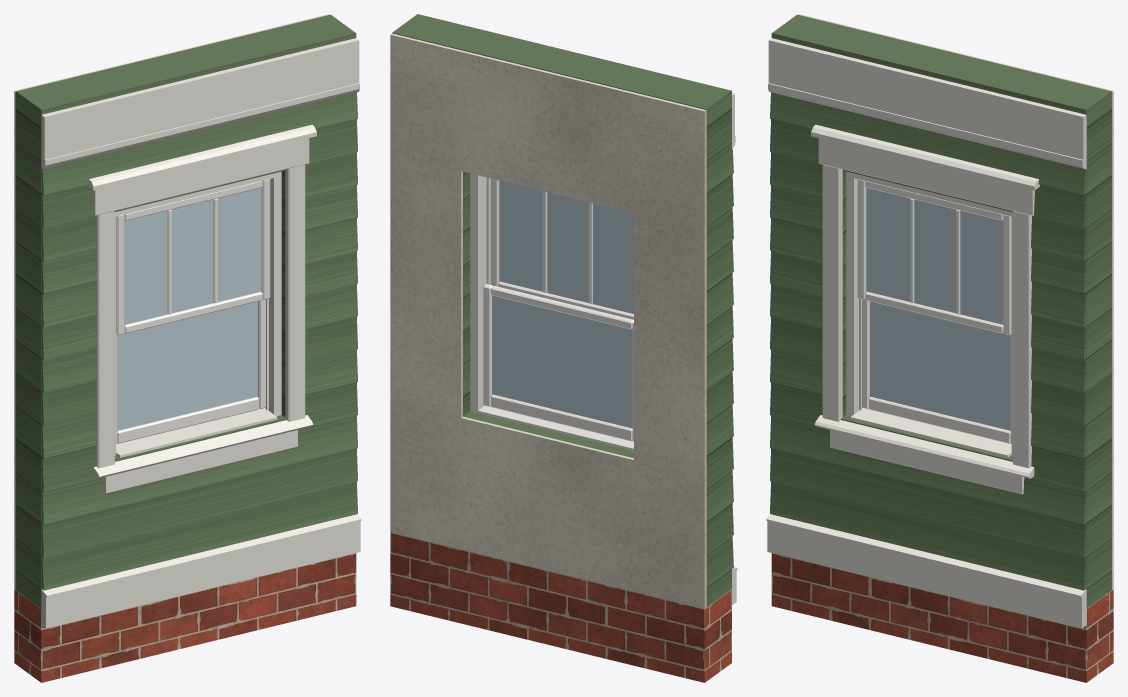
The model's file is wall_siding_window.glb.
3 views of the same model, side by side, from view 1: azimuth 30°, elevation 25°; view 2: azimuth 150°, elevation 25°; view 3: azimuth 330°, elevation 25° (orthographic).
Parts seen in each view (by area): view 1: wall_siding_window_siding, wall_siding_window_trim, wall_siding_window_glass, wall_siding_window_brick, wall_siding_window_sash, wall_siding_window_frame, wall_siding_window_plaster; view 2: wall_siding_window_plaster, wall_siding_window_glass, wall_siding_window_brick, wall_siding_window_siding, wall_siding_window_sash, wall_siding_window_frame, wall_siding_window_trim; view 3: wall_siding_window_siding, wall_siding_window_trim, wall_siding_window_glass, wall_siding_window_brick, wall_siding_window_sash, wall_siding_window_frame, wall_siding_window_plaster.
Boxes of the visible parts, bbox=[...] form: wall_siding_window_siding: bbox=[16, 14, 357, 608]; wall_siding_window_trim: bbox=[41, 38, 361, 628]; wall_siding_window_glass: bbox=[117, 188, 261, 430]; wall_siding_window_brick: bbox=[14, 553, 356, 682]; wall_siding_window_sash: bbox=[116, 179, 270, 443]; wall_siding_window_frame: bbox=[115, 171, 281, 455]; wall_siding_window_plaster: bbox=[14, 14, 329, 589]; wall_siding_window_plaster: bbox=[390, 33, 706, 608]; wall_siding_window_glass: bbox=[492, 180, 633, 428]; wall_siding_window_brick: bbox=[390, 532, 731, 682]; wall_siding_window_siding: bbox=[392, 14, 733, 606]; wall_siding_window_sash: bbox=[483, 178, 633, 441]; wall_siding_window_frame: bbox=[470, 173, 490, 412]; wall_siding_window_trim: bbox=[478, 92, 737, 604]; wall_siding_window_siding: bbox=[770, 14, 1111, 608]; wall_siding_window_trim: bbox=[766, 38, 1086, 628]; wall_siding_window_glass: bbox=[866, 188, 1010, 430]; wall_siding_window_brick: bbox=[771, 553, 1113, 682]; wall_siding_window_sash: bbox=[857, 179, 1011, 443]; wall_siding_window_frame: bbox=[846, 171, 1012, 455]; wall_siding_window_plaster: bbox=[798, 14, 1113, 589].
Size of the model in its own units: 2 by 3.48 by 0.382.
7 materials, 3 textured.
